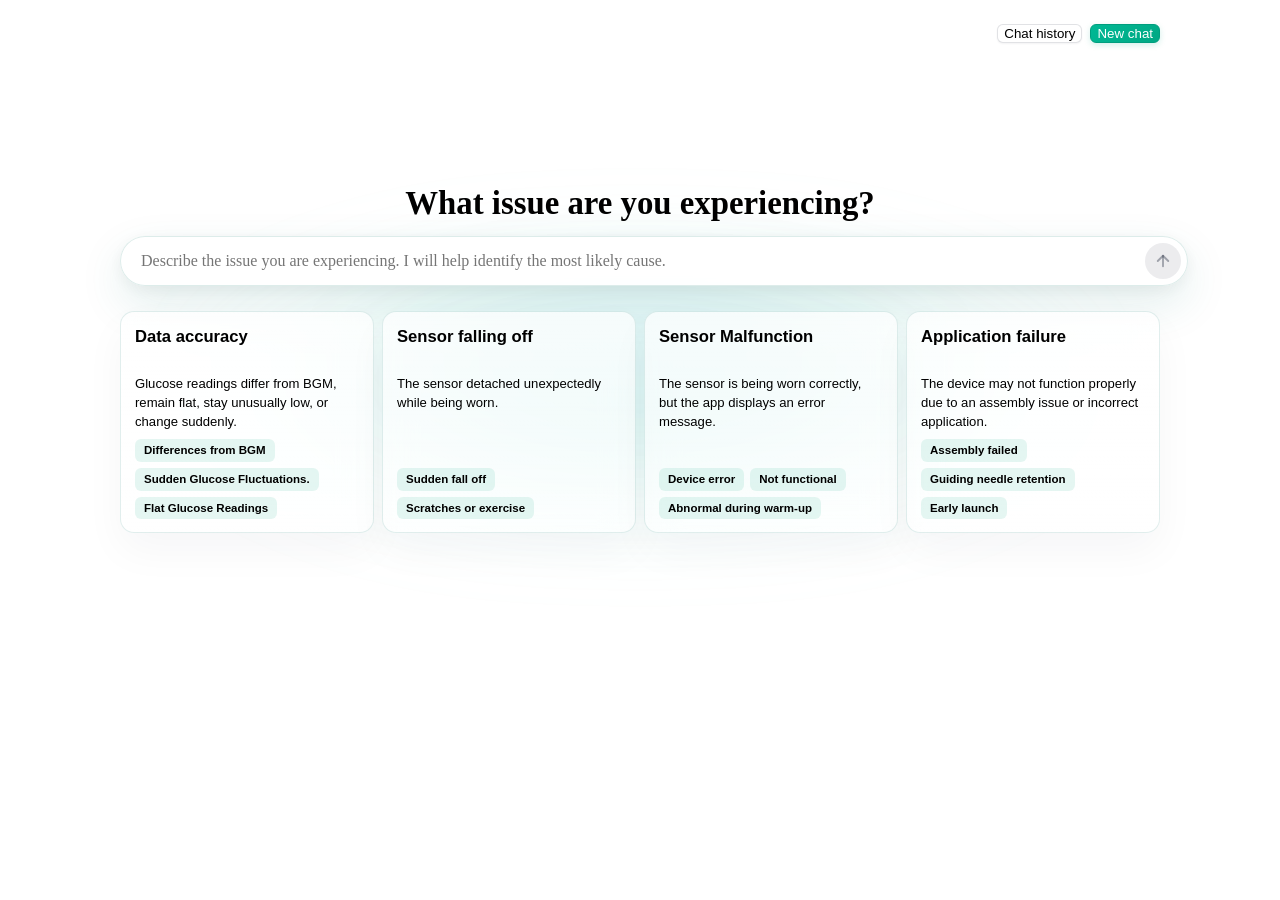
Scenario: AgentChatView › shows all fault choices when the description is ambiguous
Replace the text in the text box named "Describe the case" with "The customer needs help with this case.": (637, 261) left=141, top=245, right=1133, bottom=277
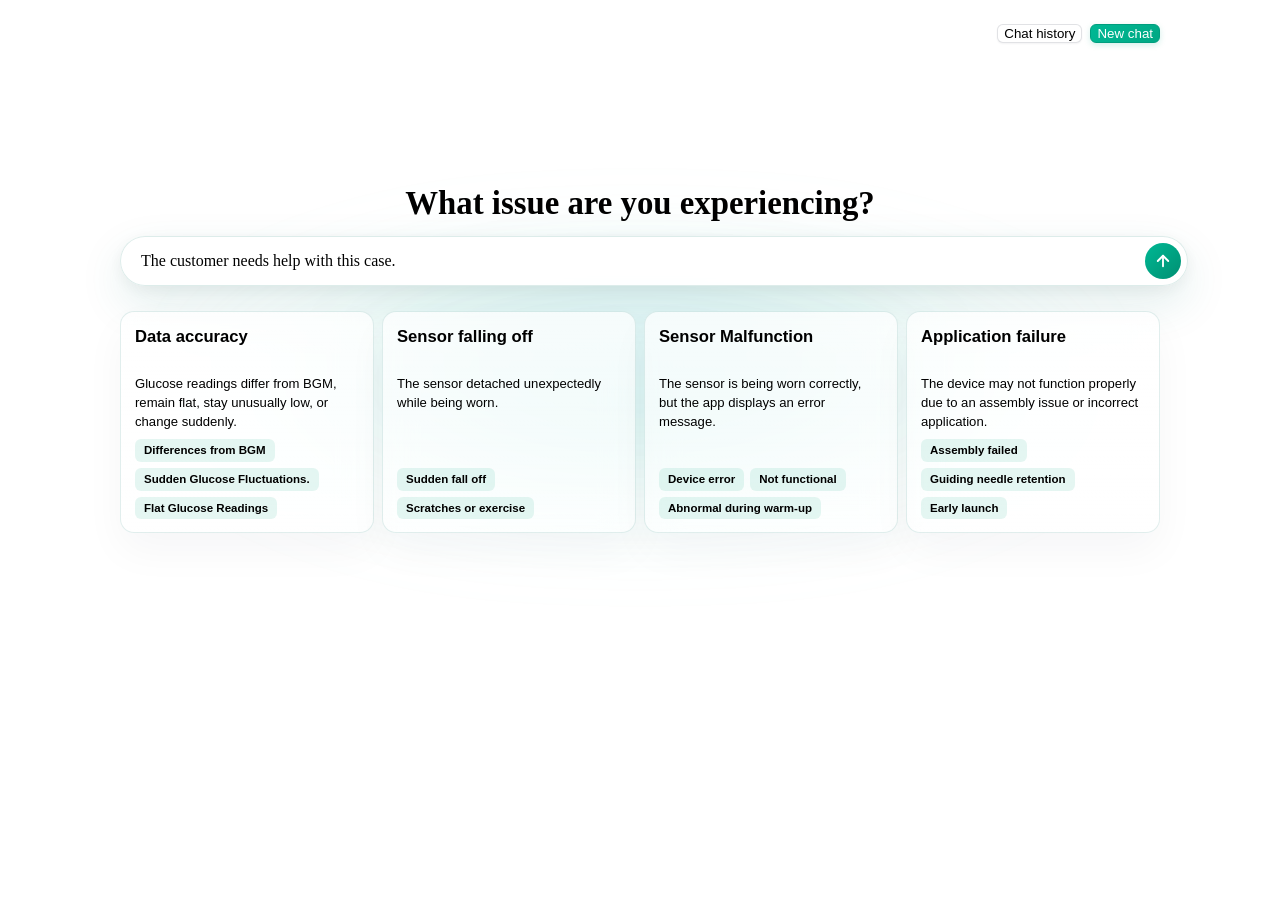
Submit the form, box left=120, top=236, right=1188, bottom=286
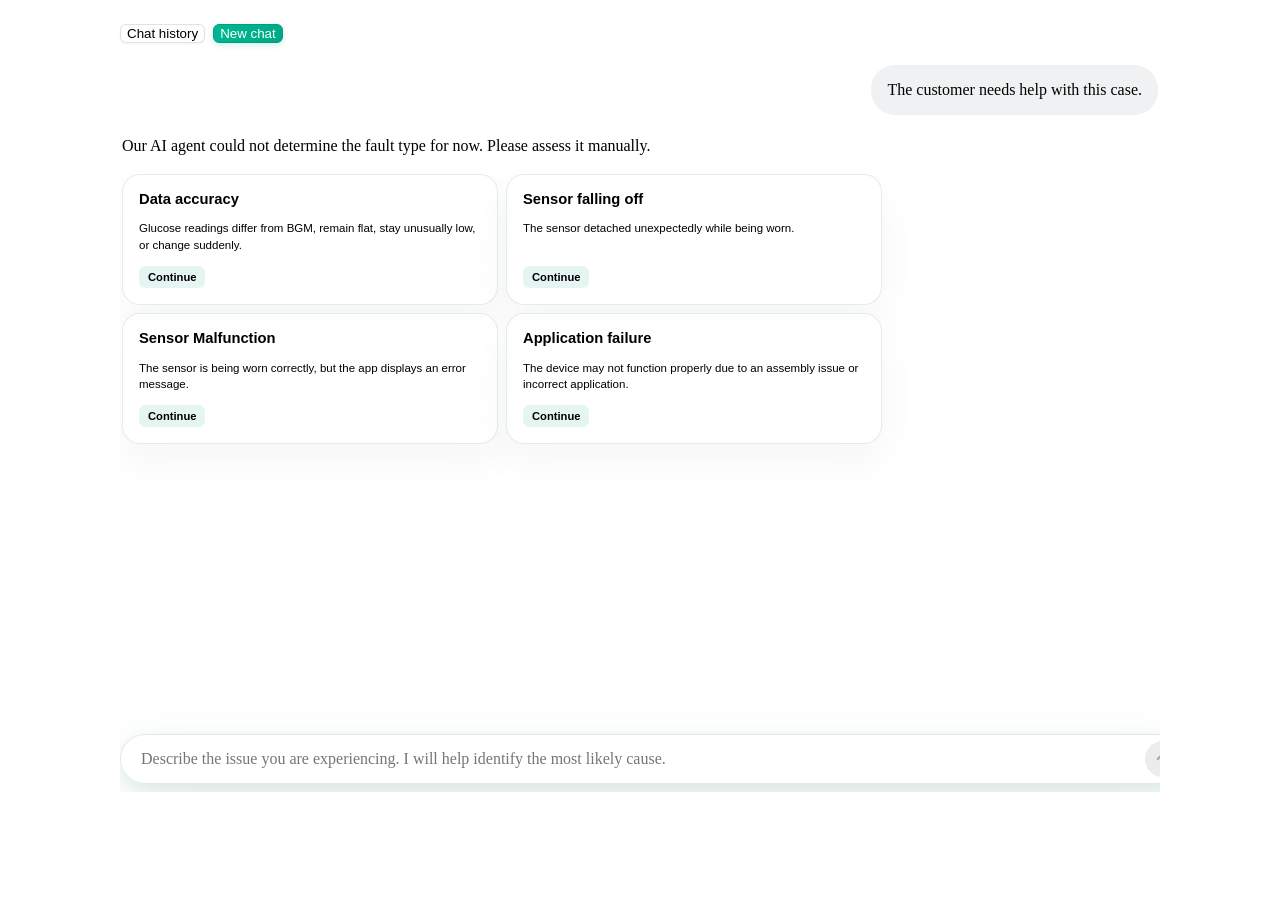
Now the number of buttons with test id "assistant-fault-option" is 4, box left=122, top=174, right=498, bottom=305; left=506, top=174, right=882, bottom=305; left=122, top=313, right=498, bottom=444; left=506, top=313, right=882, bottom=444
